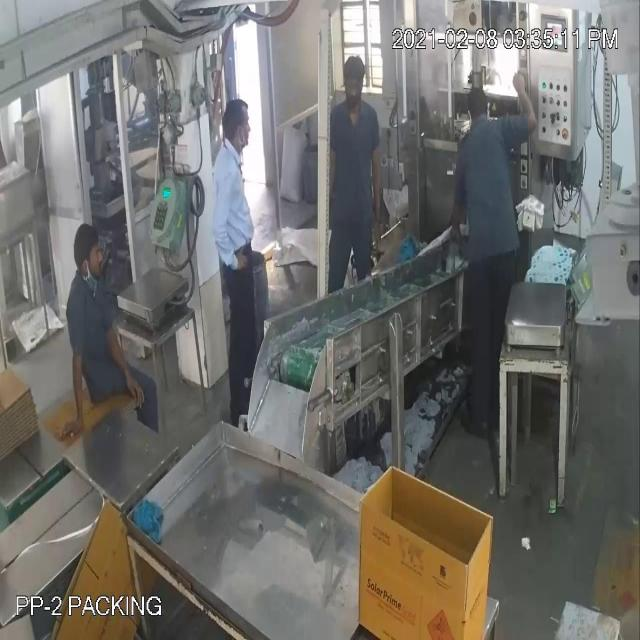No_Gloves: (22, 66, 524, 392)
